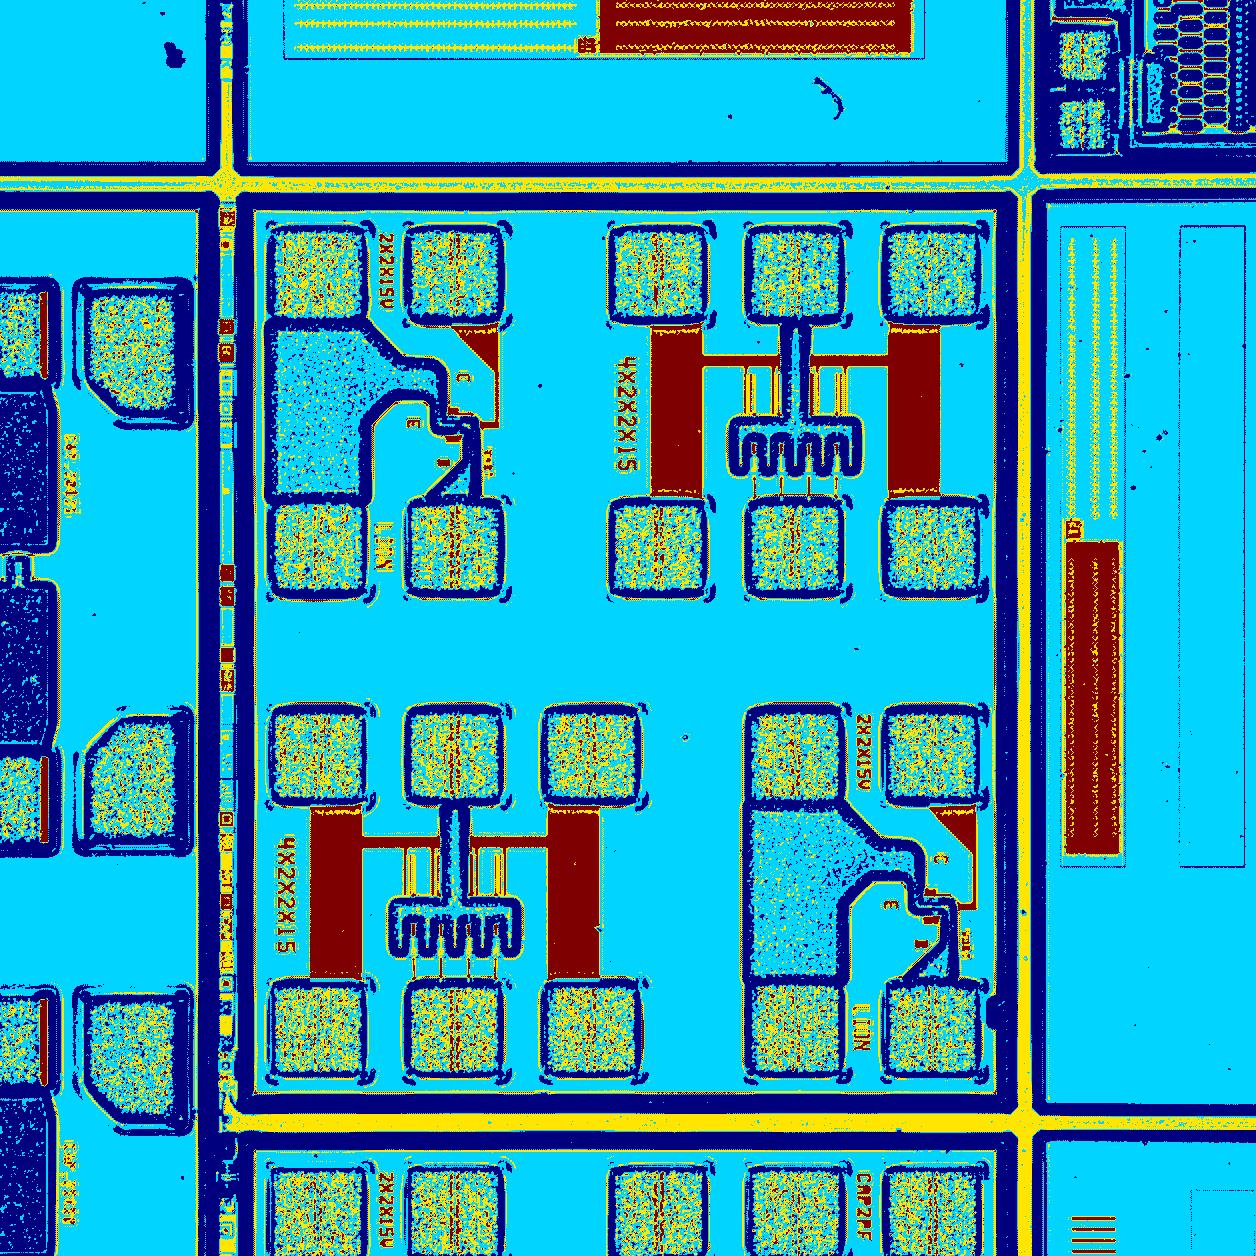Die: (233, 193, 1019, 1115)
Pad 3: (752, 714, 838, 799), (615, 232, 702, 316), (412, 714, 498, 798), (889, 233, 977, 316), (890, 506, 975, 590), (276, 232, 360, 317), (755, 986, 838, 1071), (547, 715, 635, 797), (753, 232, 838, 315), (276, 505, 361, 588), (412, 988, 497, 1071), (412, 232, 498, 314), (276, 988, 359, 1072), (549, 988, 634, 1070), (752, 508, 838, 589), (412, 507, 496, 589), (276, 715, 360, 797), (890, 988, 974, 1070), (616, 507, 700, 588), (891, 715, 974, 796)
